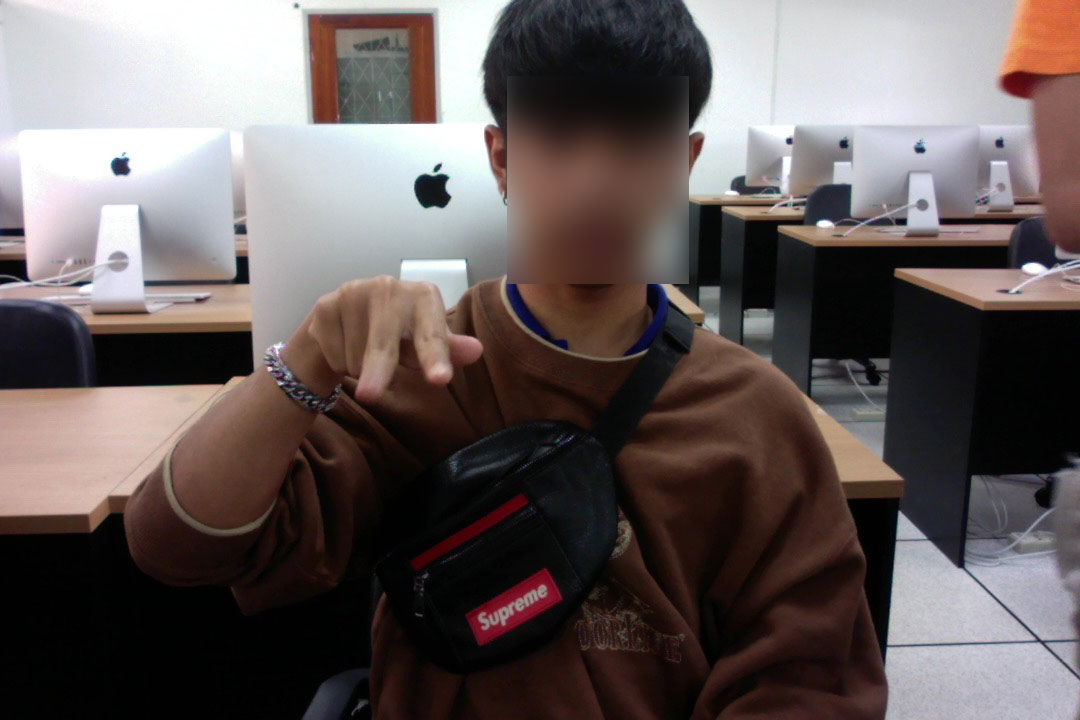por: (302, 261, 487, 414)
